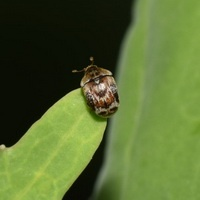insect: (72, 57, 118, 117)
